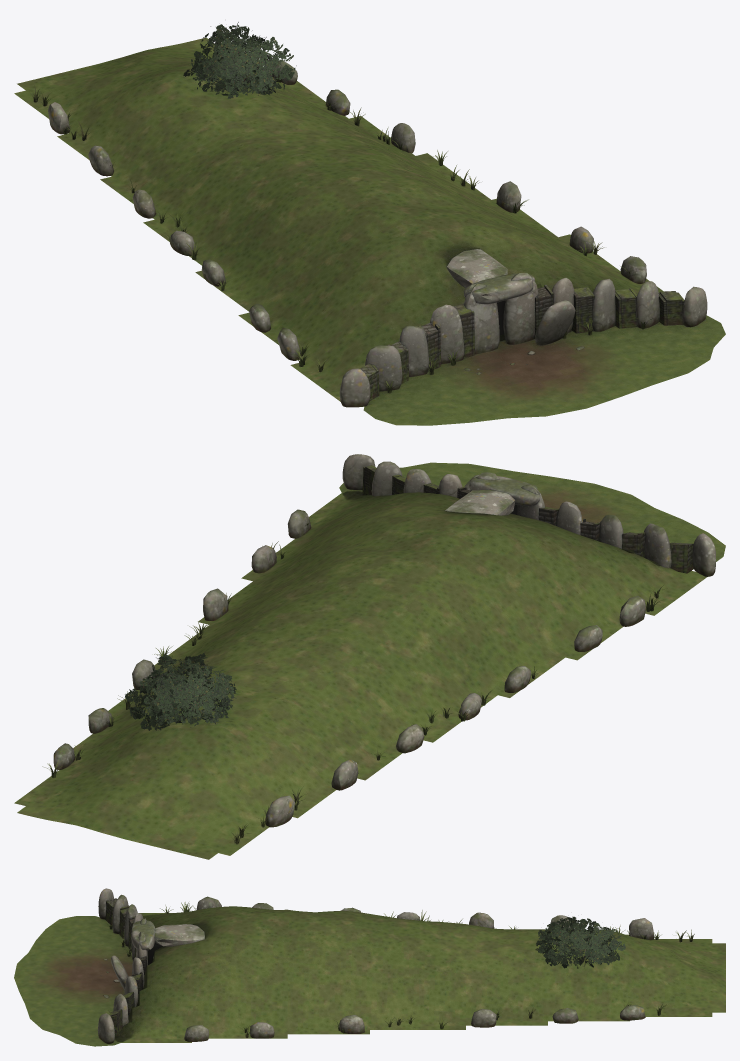
The model's file is barrow.glb.
3 renders of one model, top to bottom at view 1: azimuth 30°, elevation 25°; view 2: azimuth 150°, elevation 25°; view 3: azimuth 270°, elevation 25°, orthographic. The views are drawn at different scales.
Visible parts, largest first — view 1: barrow_LOD0, barrow_thorn_LOD0; view 2: barrow_LOD0, barrow_thorn_LOD0; view 3: barrow_LOD0, barrow_thorn_LOD0.
Boxes of the visible parts, x1,y1,x2,y2 form: barrow_LOD0: (14,37,725,425); barrow_thorn_LOD0: (183,22,296,98); barrow_LOD0: (14,454,725,859); barrow_thorn_LOD0: (125,653,242,730); barrow_LOD0: (14,888,725,1046); barrow_thorn_LOD0: (535,916,625,968).
Size of what is drawn, in the model's own units: 12.88 by 3.19 by 28.6.
2 materials, 2 textured.
